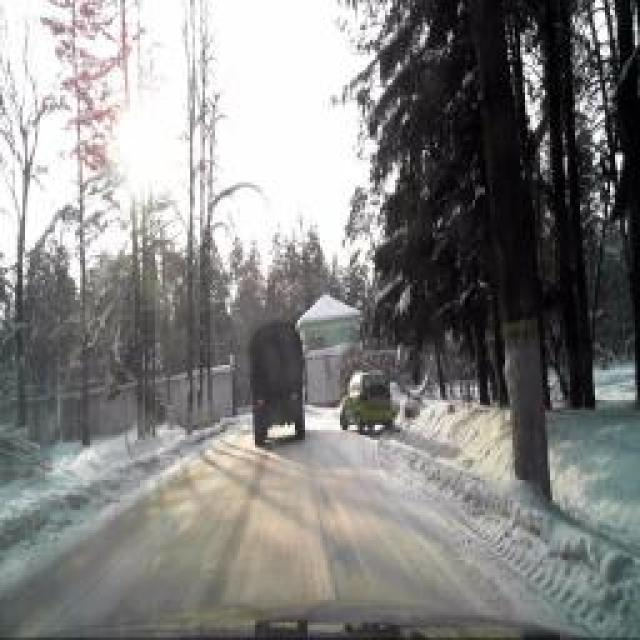sign: (92, 336, 112, 369)
